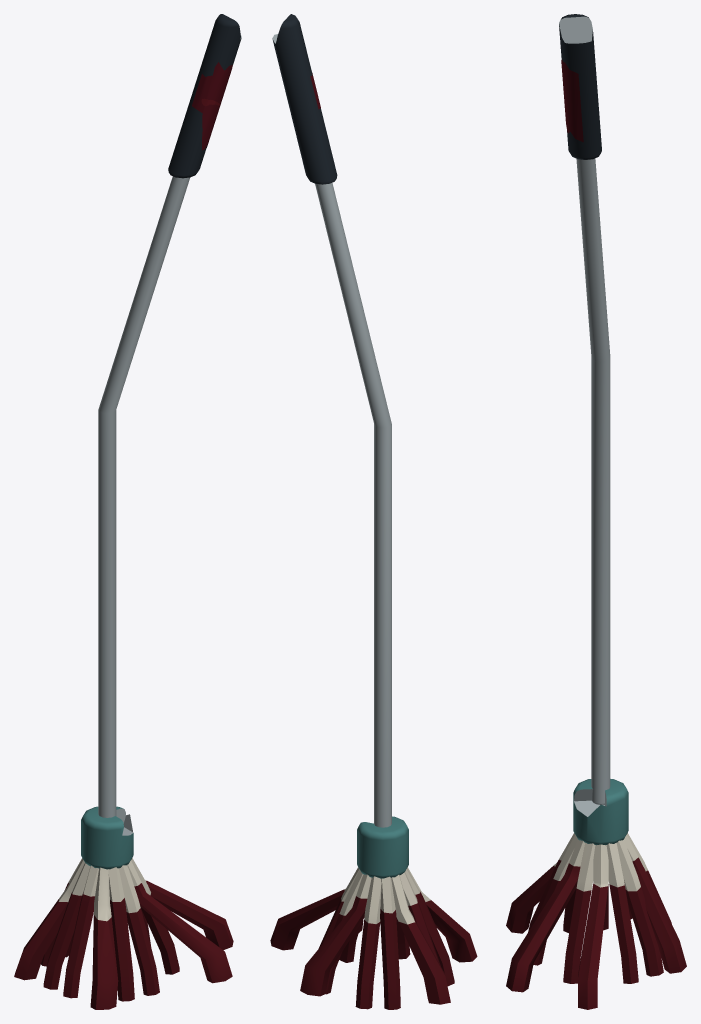
Rendered from mop.glb.
3 views of the same model, side by side, from view 1: azimuth 30°, elevation 25°; view 2: azimuth 150°, elevation 25°; view 3: azimuth 270°, elevation 25° (orthographic). The views are drawn at different scales.
Parts seen in each view (by area): view 1: Outbreak_Utility_Mop_Static; view 2: Outbreak_Utility_Mop_Static; view 3: Outbreak_Utility_Mop_Static.
Part boxes in pixels (x1,y1,x2,y2): Outbreak_Utility_Mop_Static: [14, 14, 241, 1009]; Outbreak_Utility_Mop_Static: [270, 14, 477, 1009]; Outbreak_Utility_Mop_Static: [506, 14, 686, 1009].
Bounding box in the file's own units: 0.339 × 1.5 × 0.2477.
